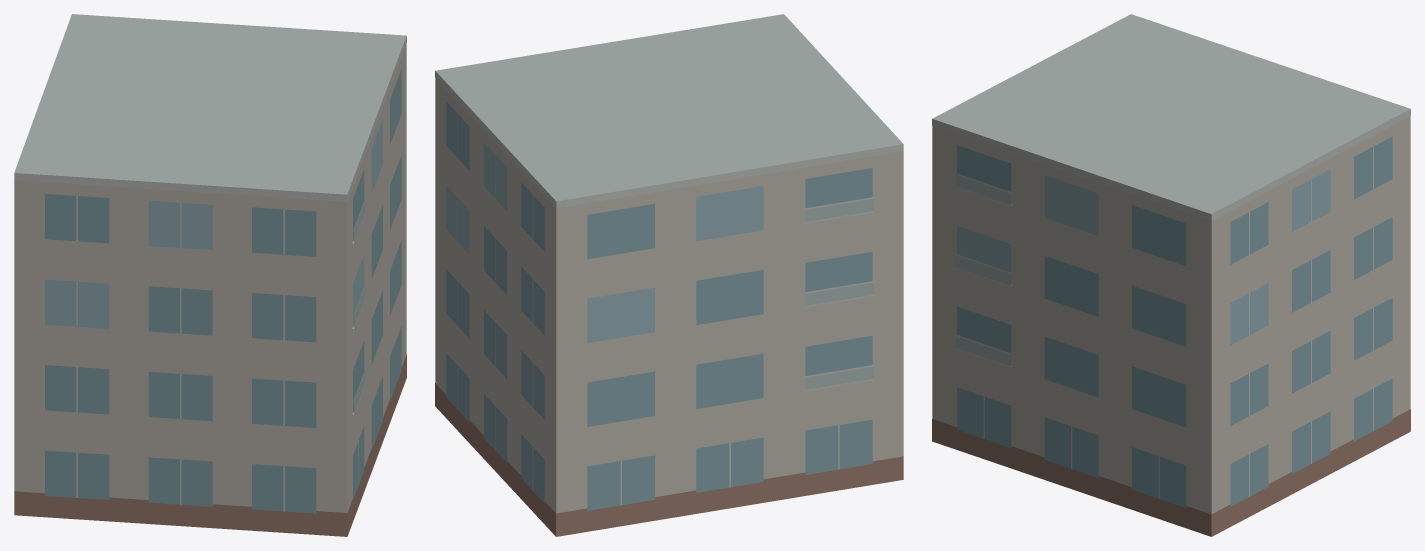
File: survey-upis-33042257.glb
3 views of the same model, side by side, from view 1: azimuth 30°, elevation 25°; view 2: azimuth 150°, elevation 25°; view 3: azimuth 270°, elevation 25° (orthographic). The views are drawn at different scales.
Parts seen in each view (by area): view 1: survey-upis-33042257.tmp; view 2: survey-upis-33042257.tmp; view 3: survey-upis-33042257.tmp.
Boxes of the visible parts, x1,y1,x2,y2 form: survey-upis-33042257.tmp: (14, 14, 406, 536); survey-upis-33042257.tmp: (435, 14, 903, 536); survey-upis-33042257.tmp: (932, 14, 1410, 536).
Bounding box in the file's own units: 15.4 × 11.57 × 15.56.
